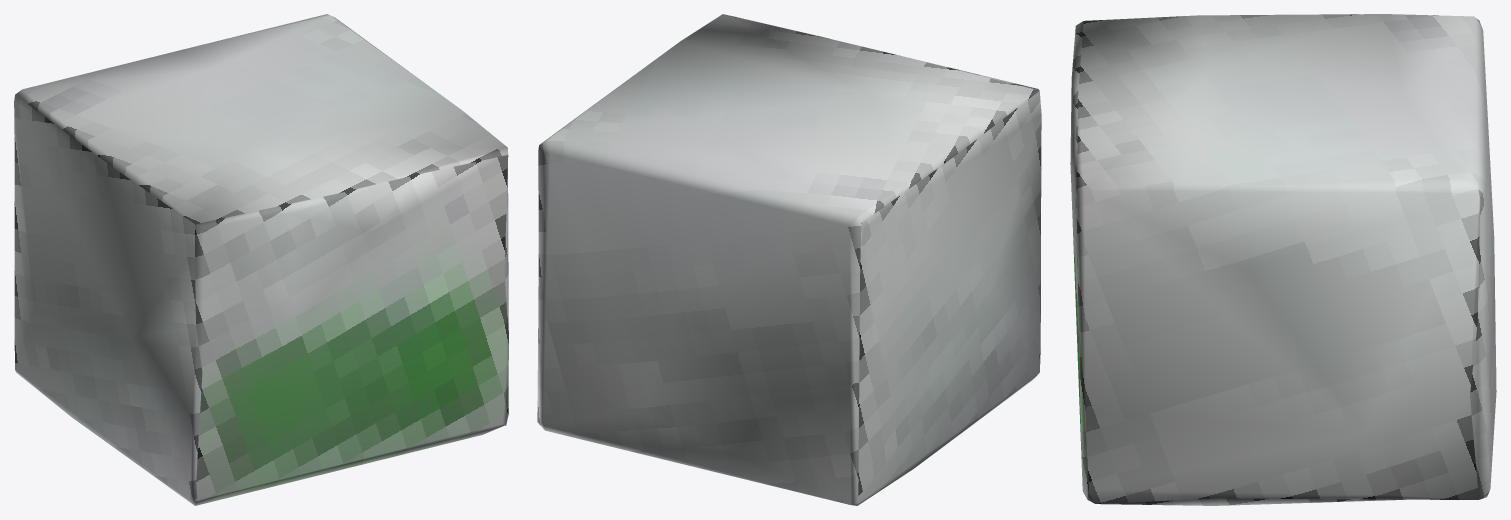
The model's file is Perricone_MD_Hypoallergenic_Firming_Eye_Cream_05_oz-low.glb.
The picture shows the model from 3 angles, left to right: view 1: azimuth 30°, elevation 25°; view 2: azimuth 150°, elevation 25°; view 3: azimuth 270°, elevation 25°; orthographic projection. The views are drawn at different scales.
Visible parts, largest first — view 1: Perricone_MD_Hypoallergenic_Firming_Eye_Cream_05_oz; view 2: Perricone_MD_Hypoallergenic_Firming_Eye_Cream_05_oz; view 3: Perricone_MD_Hypoallergenic_Firming_Eye_Cream_05_oz.
Boxes of the visible parts, x1=… form: Perricone_MD_Hypoallergenic_Firming_Eye_Cream_05_oz: x1=14, y1=14, x2=508, y2=505; Perricone_MD_Hypoallergenic_Firming_Eye_Cream_05_oz: x1=537, y1=14, x2=1041, y2=505; Perricone_MD_Hypoallergenic_Firming_Eye_Cream_05_oz: x1=1070, y1=14, x2=1496, y2=505.
Bounding box in the file's own units: 0.0569 × 0.0489 × 0.0571.
1 material, 1 textured.
